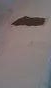Corrosion: (10, 15, 47, 27)
